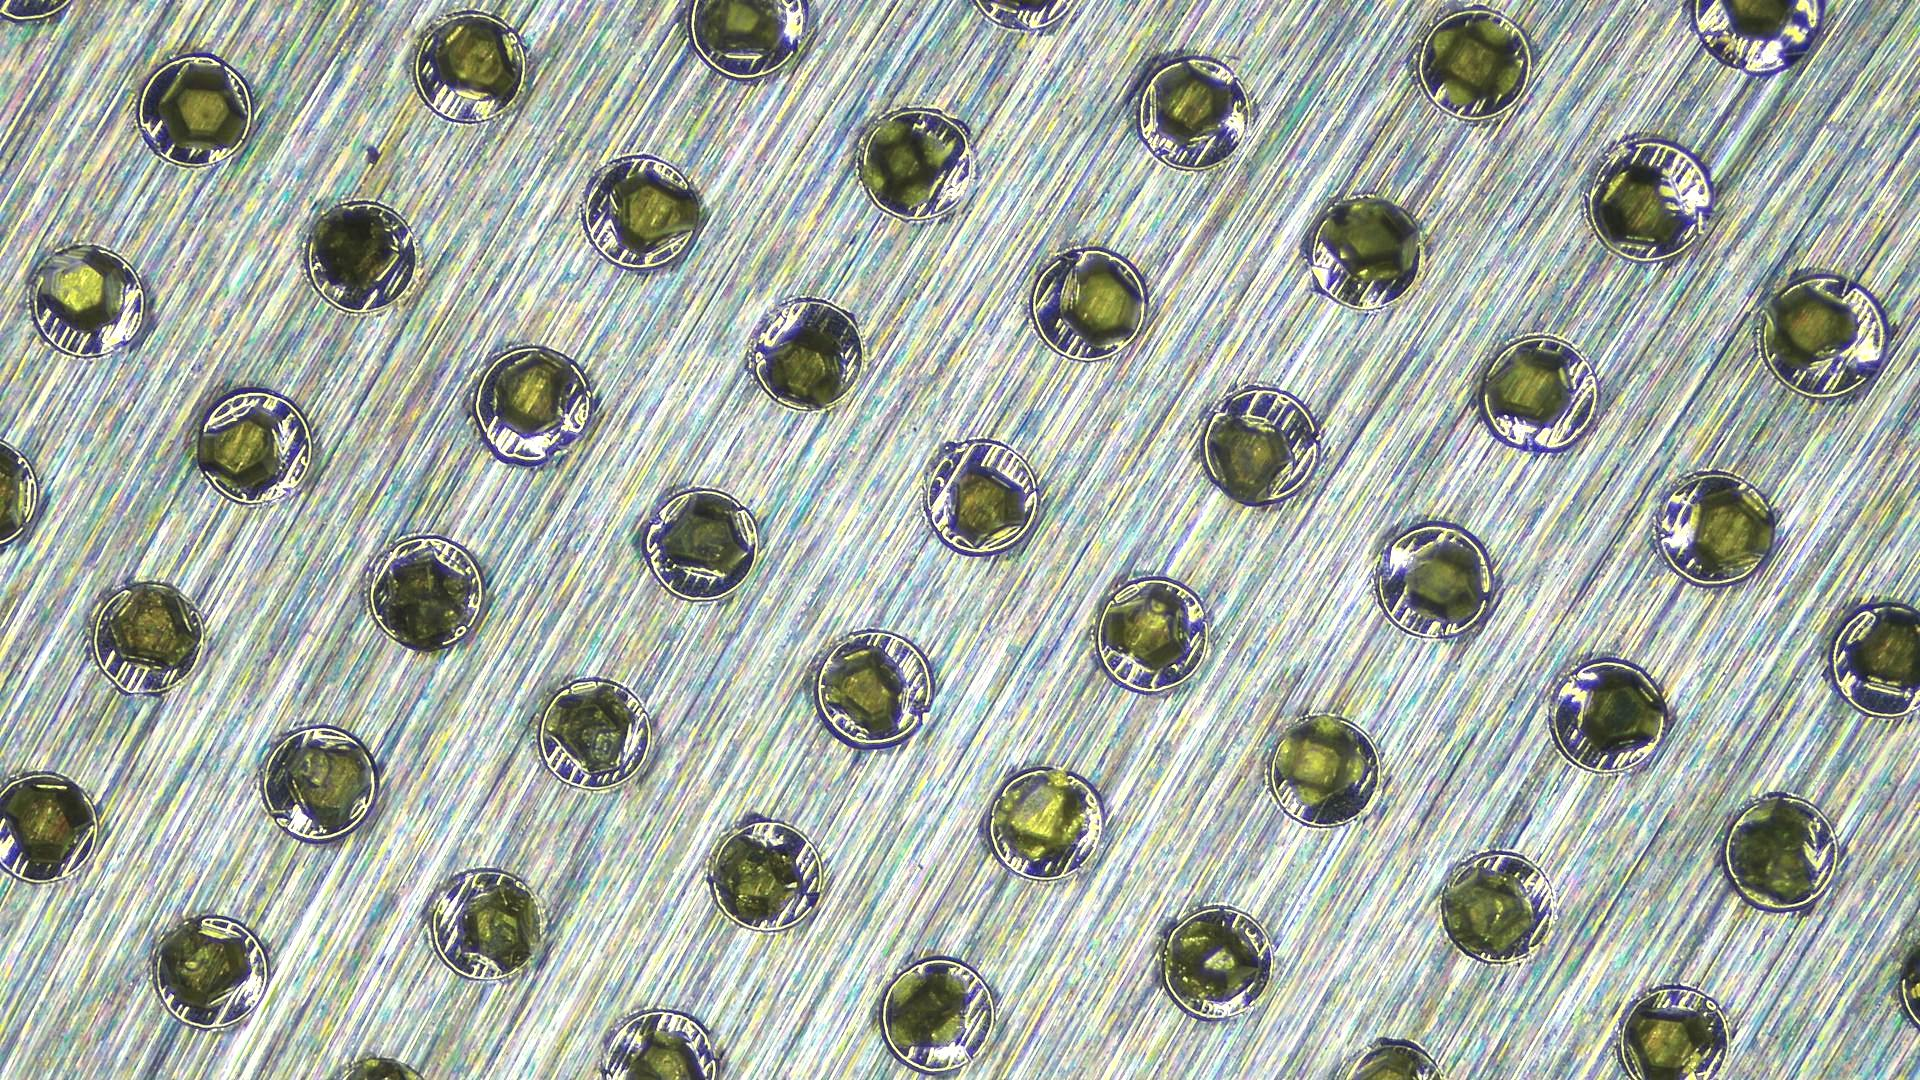break: (255, 718, 383, 846), (527, 671, 655, 799)
fault: (1717, 789, 1847, 919), (297, 191, 426, 320), (694, 812, 822, 940), (357, 535, 485, 663)
